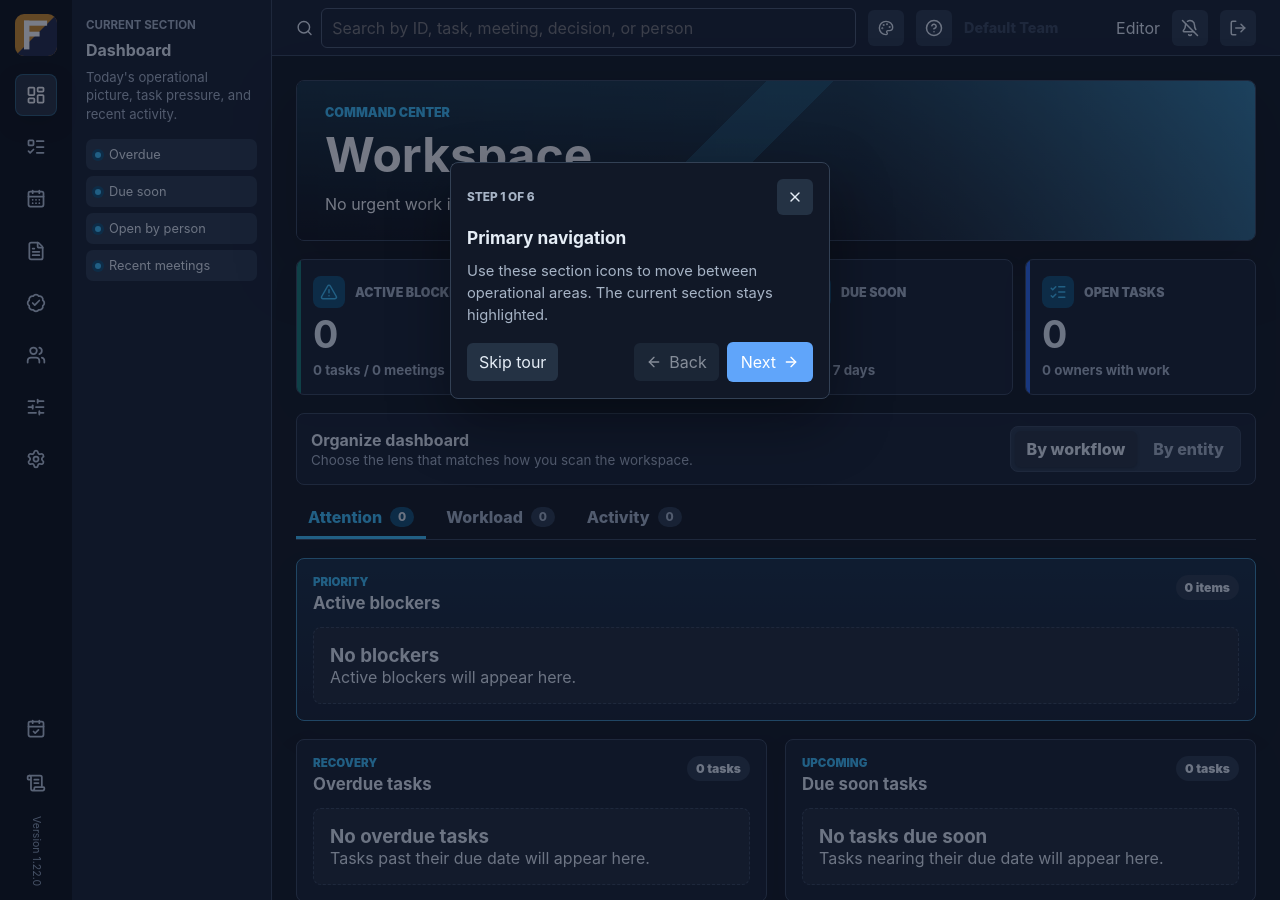
Test: record pages › shows related records when a person record is selected
Click the button named "People": x=36, y=355 [15,334,57,376]
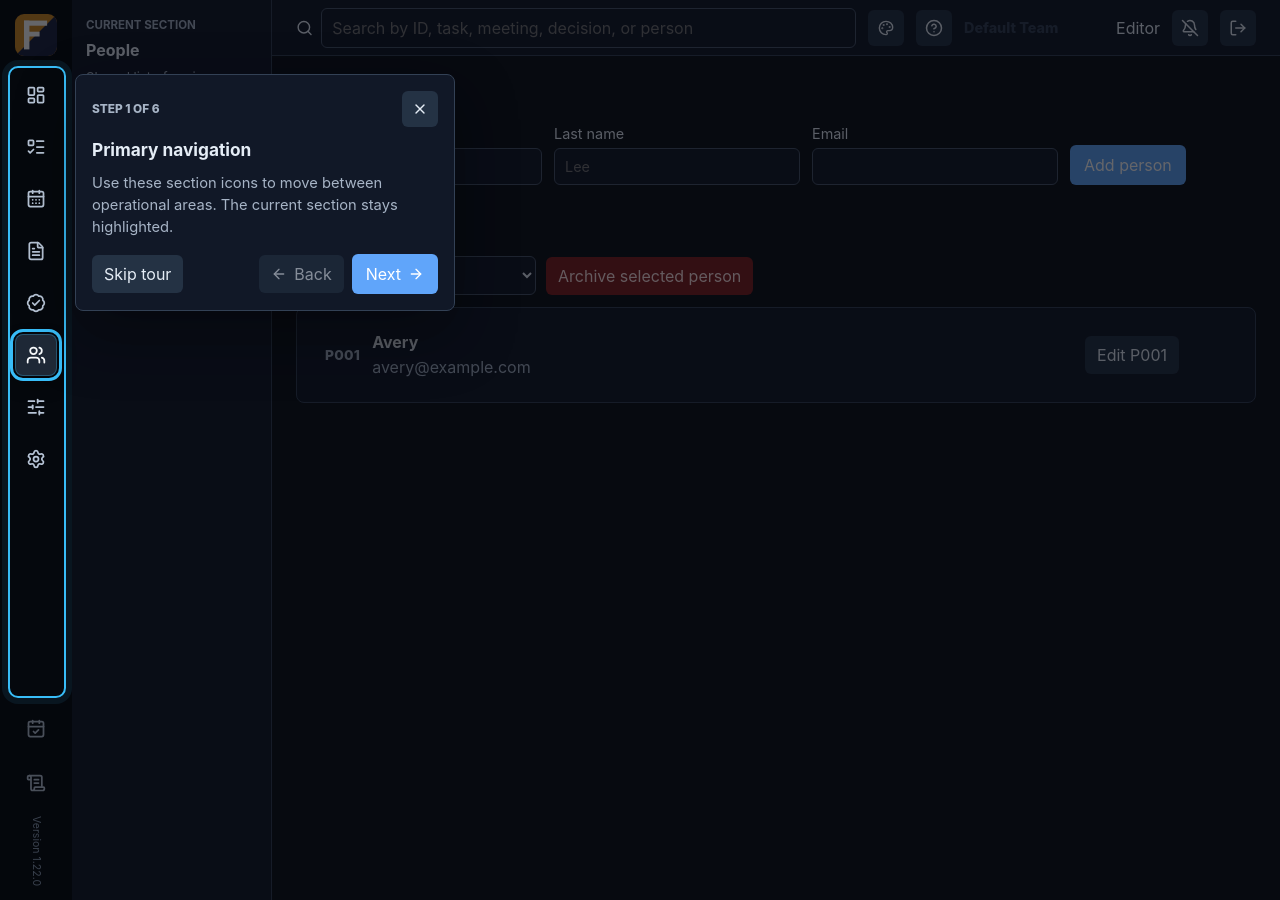
Click the button named "View records for P001": x=343, y=355 [311,320,1073,390]
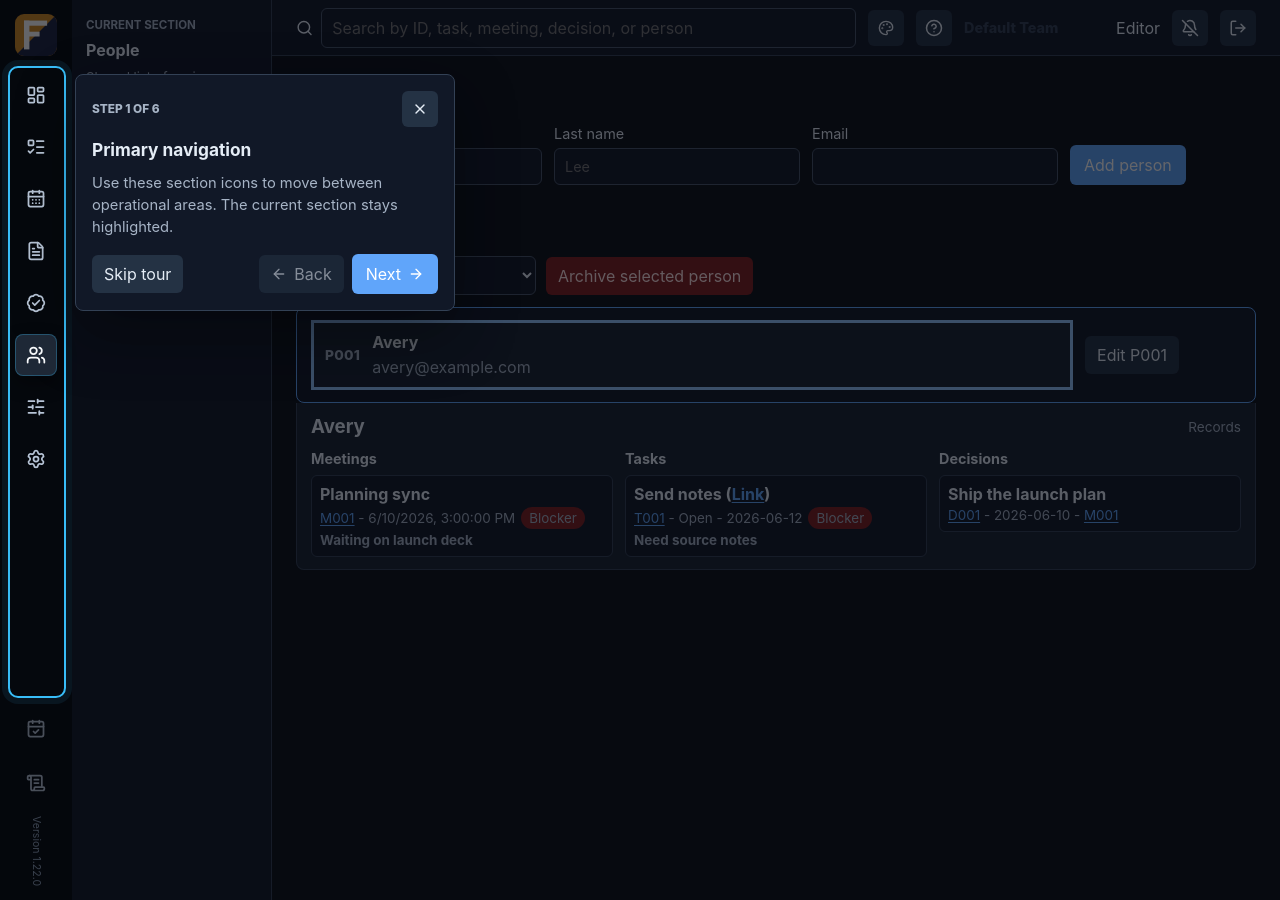
expect the heading "Meetings" is shown: met, box [311,450,377,467]
expect the text "Planning sync" is shown: met, box [320,484,430,504]
expect the heading "Tasks" is shown: met, box [625,450,666,467]
